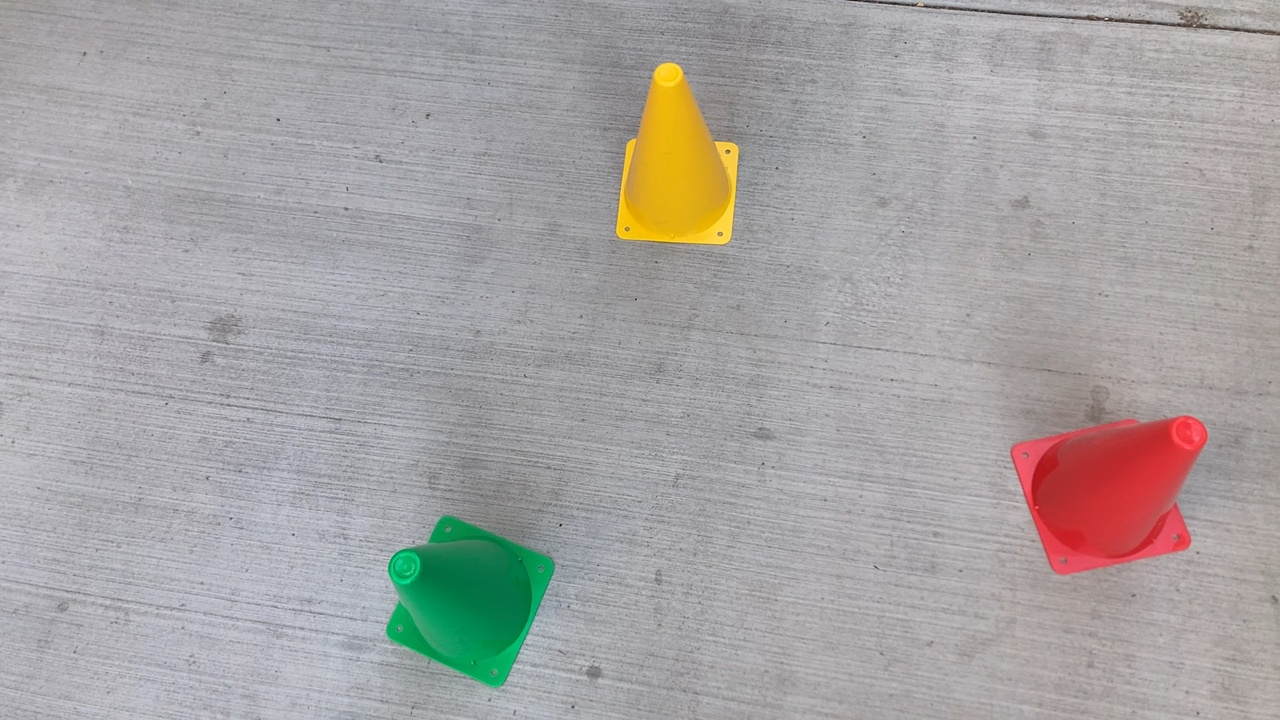green_cone: (382, 511, 560, 691)
red_cone: (1008, 412, 1212, 578)
yellow_cone: (613, 59, 744, 251)
